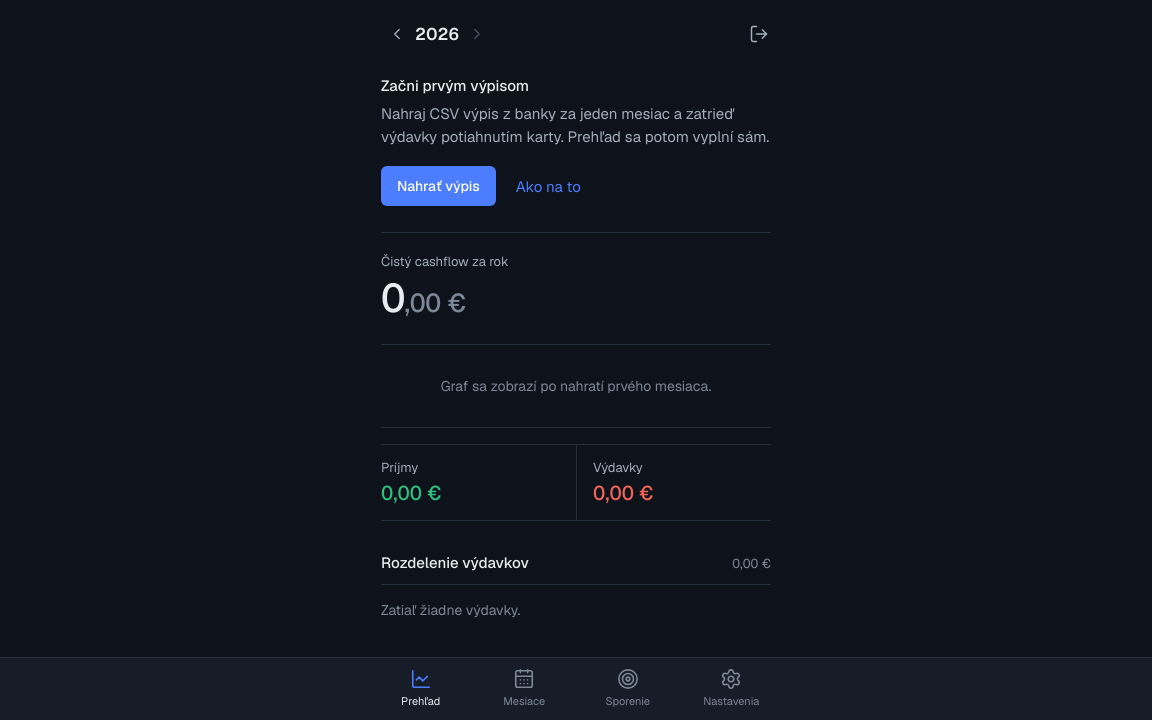
Test case: bez dát: uvítanie vedie na návod aj na nahratie výpisu
Expected: the heading "Začni prvým výpisom" is shown, [381,76,529,95]
Click the button "Ako na to" at (548, 186), box [516,164,581,208]
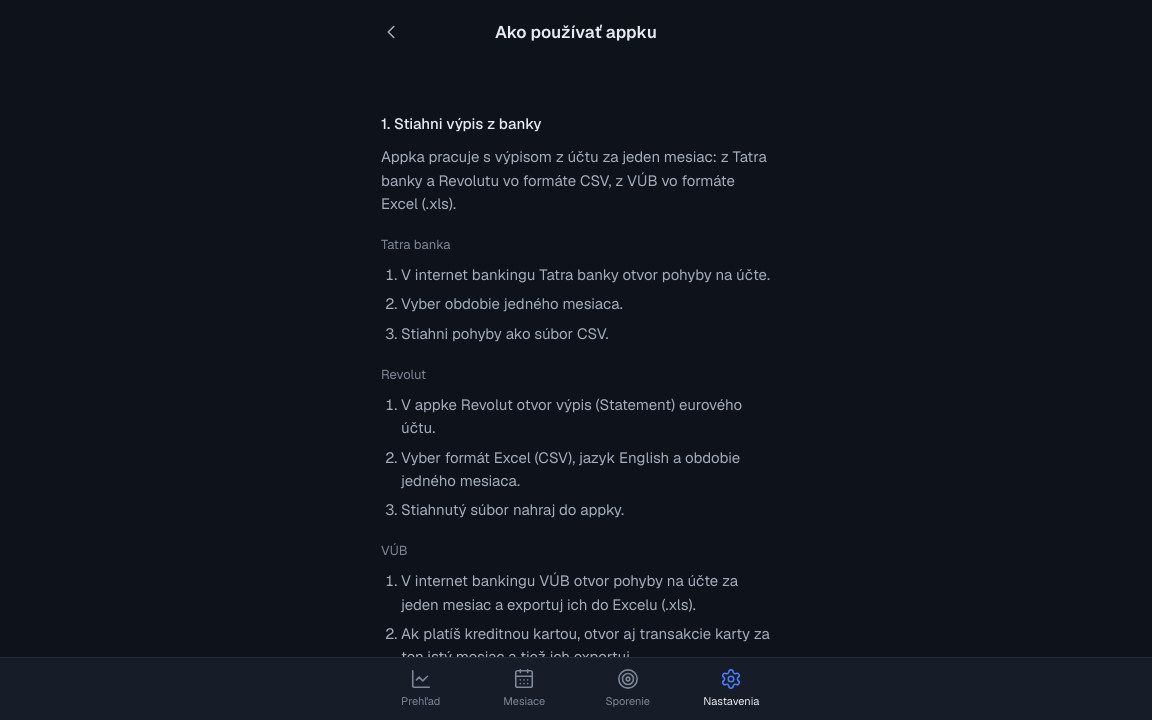
Expected: the heading "Ako používať appku" is shown, [495,21,657,43]
Click the button named "Späť" at (391, 32), box [369,10,413,54]
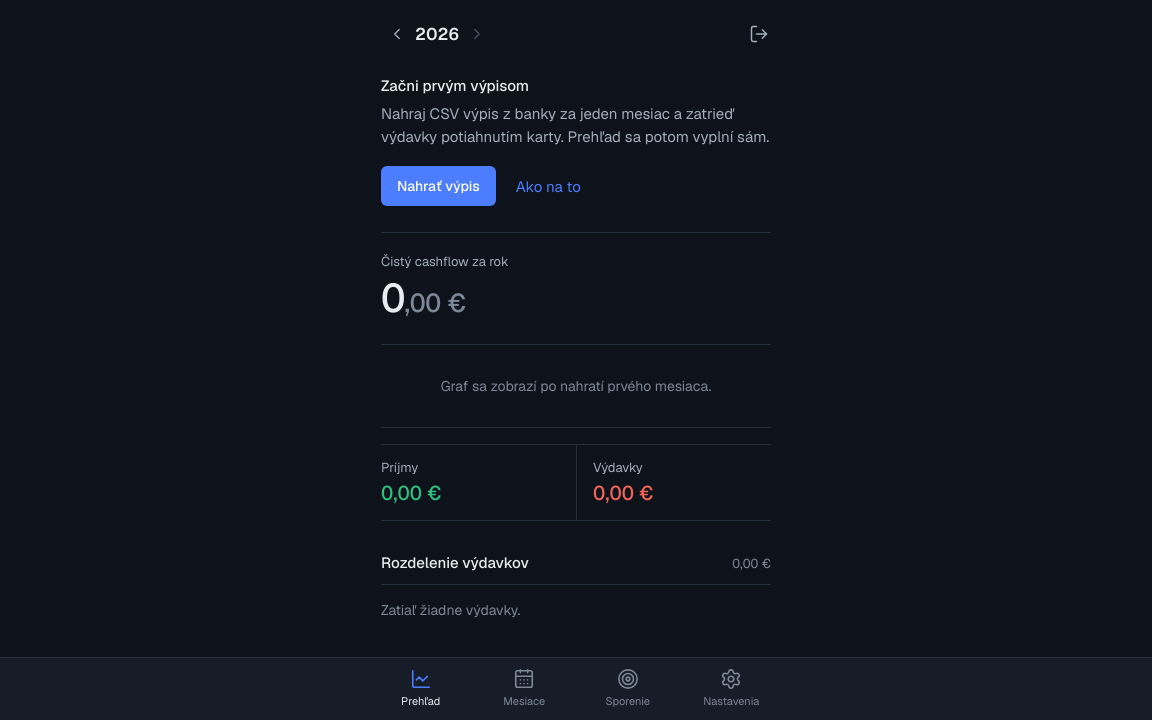
Expected: the heading "Začni prvým výpisom" is shown, [381,76,529,95]
Click the button "Nahrať výpis" at (438, 186), box [381,166,496,206]
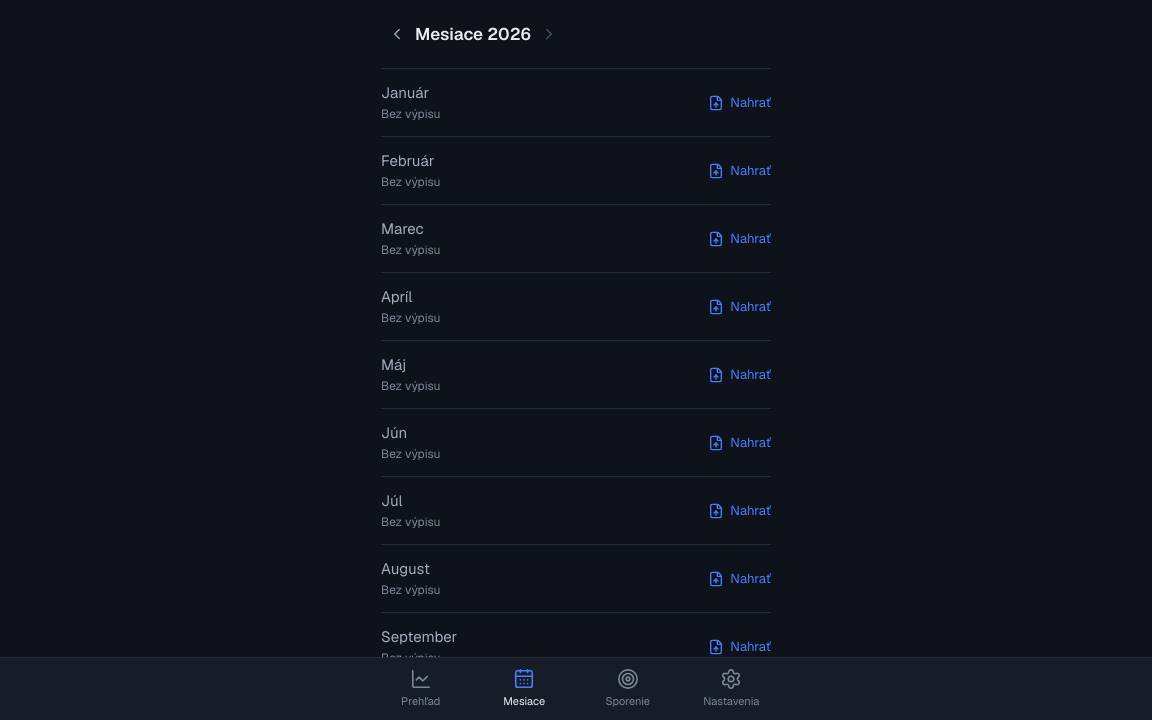
Expected: the heading "Mesiace 2026" is shown, [415,23,531,45]
